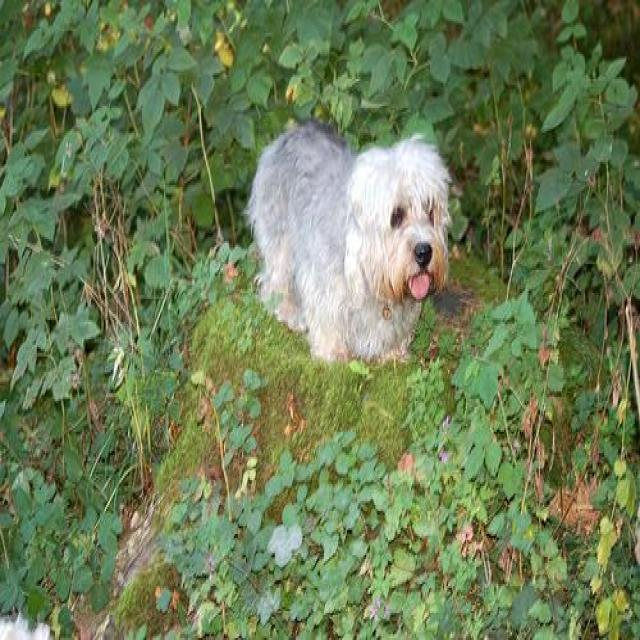dandie_dinmont: (248, 126, 452, 367)
